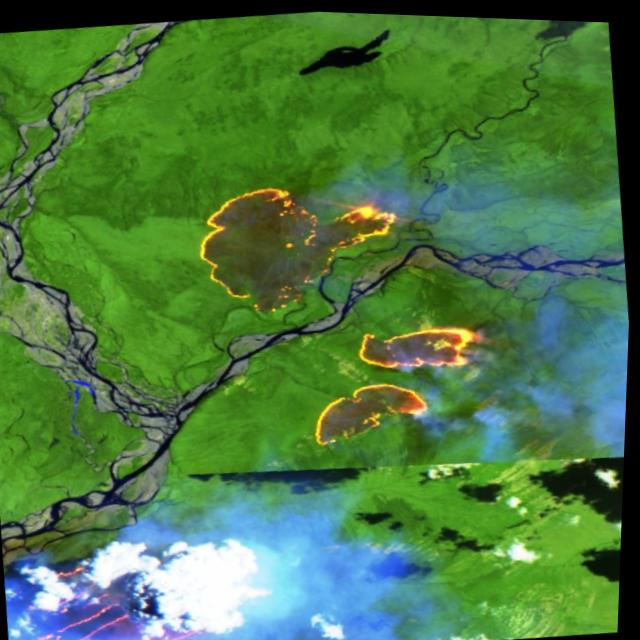fire: (182, 161, 422, 324), (300, 308, 500, 450), (5, 538, 240, 640)
